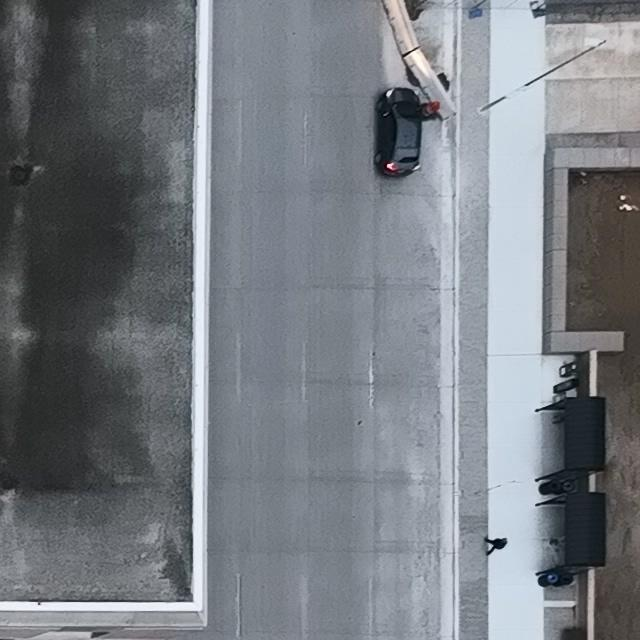car: (375, 86, 423, 179)
